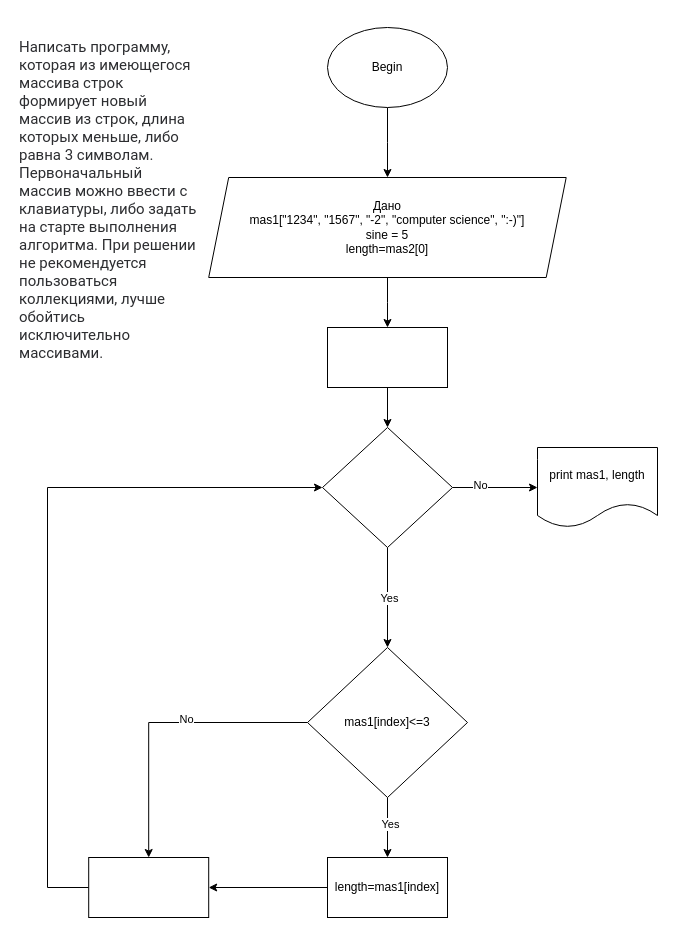
Some shapes in this 675 by 935 pixel diagram are drawn without their labels. Each missing label, with the centre of its shape:
"index < size" goes at point (387, 487).
"index = 0" goes at point (387, 357).
"index= index +1" goes at point (148, 887).
